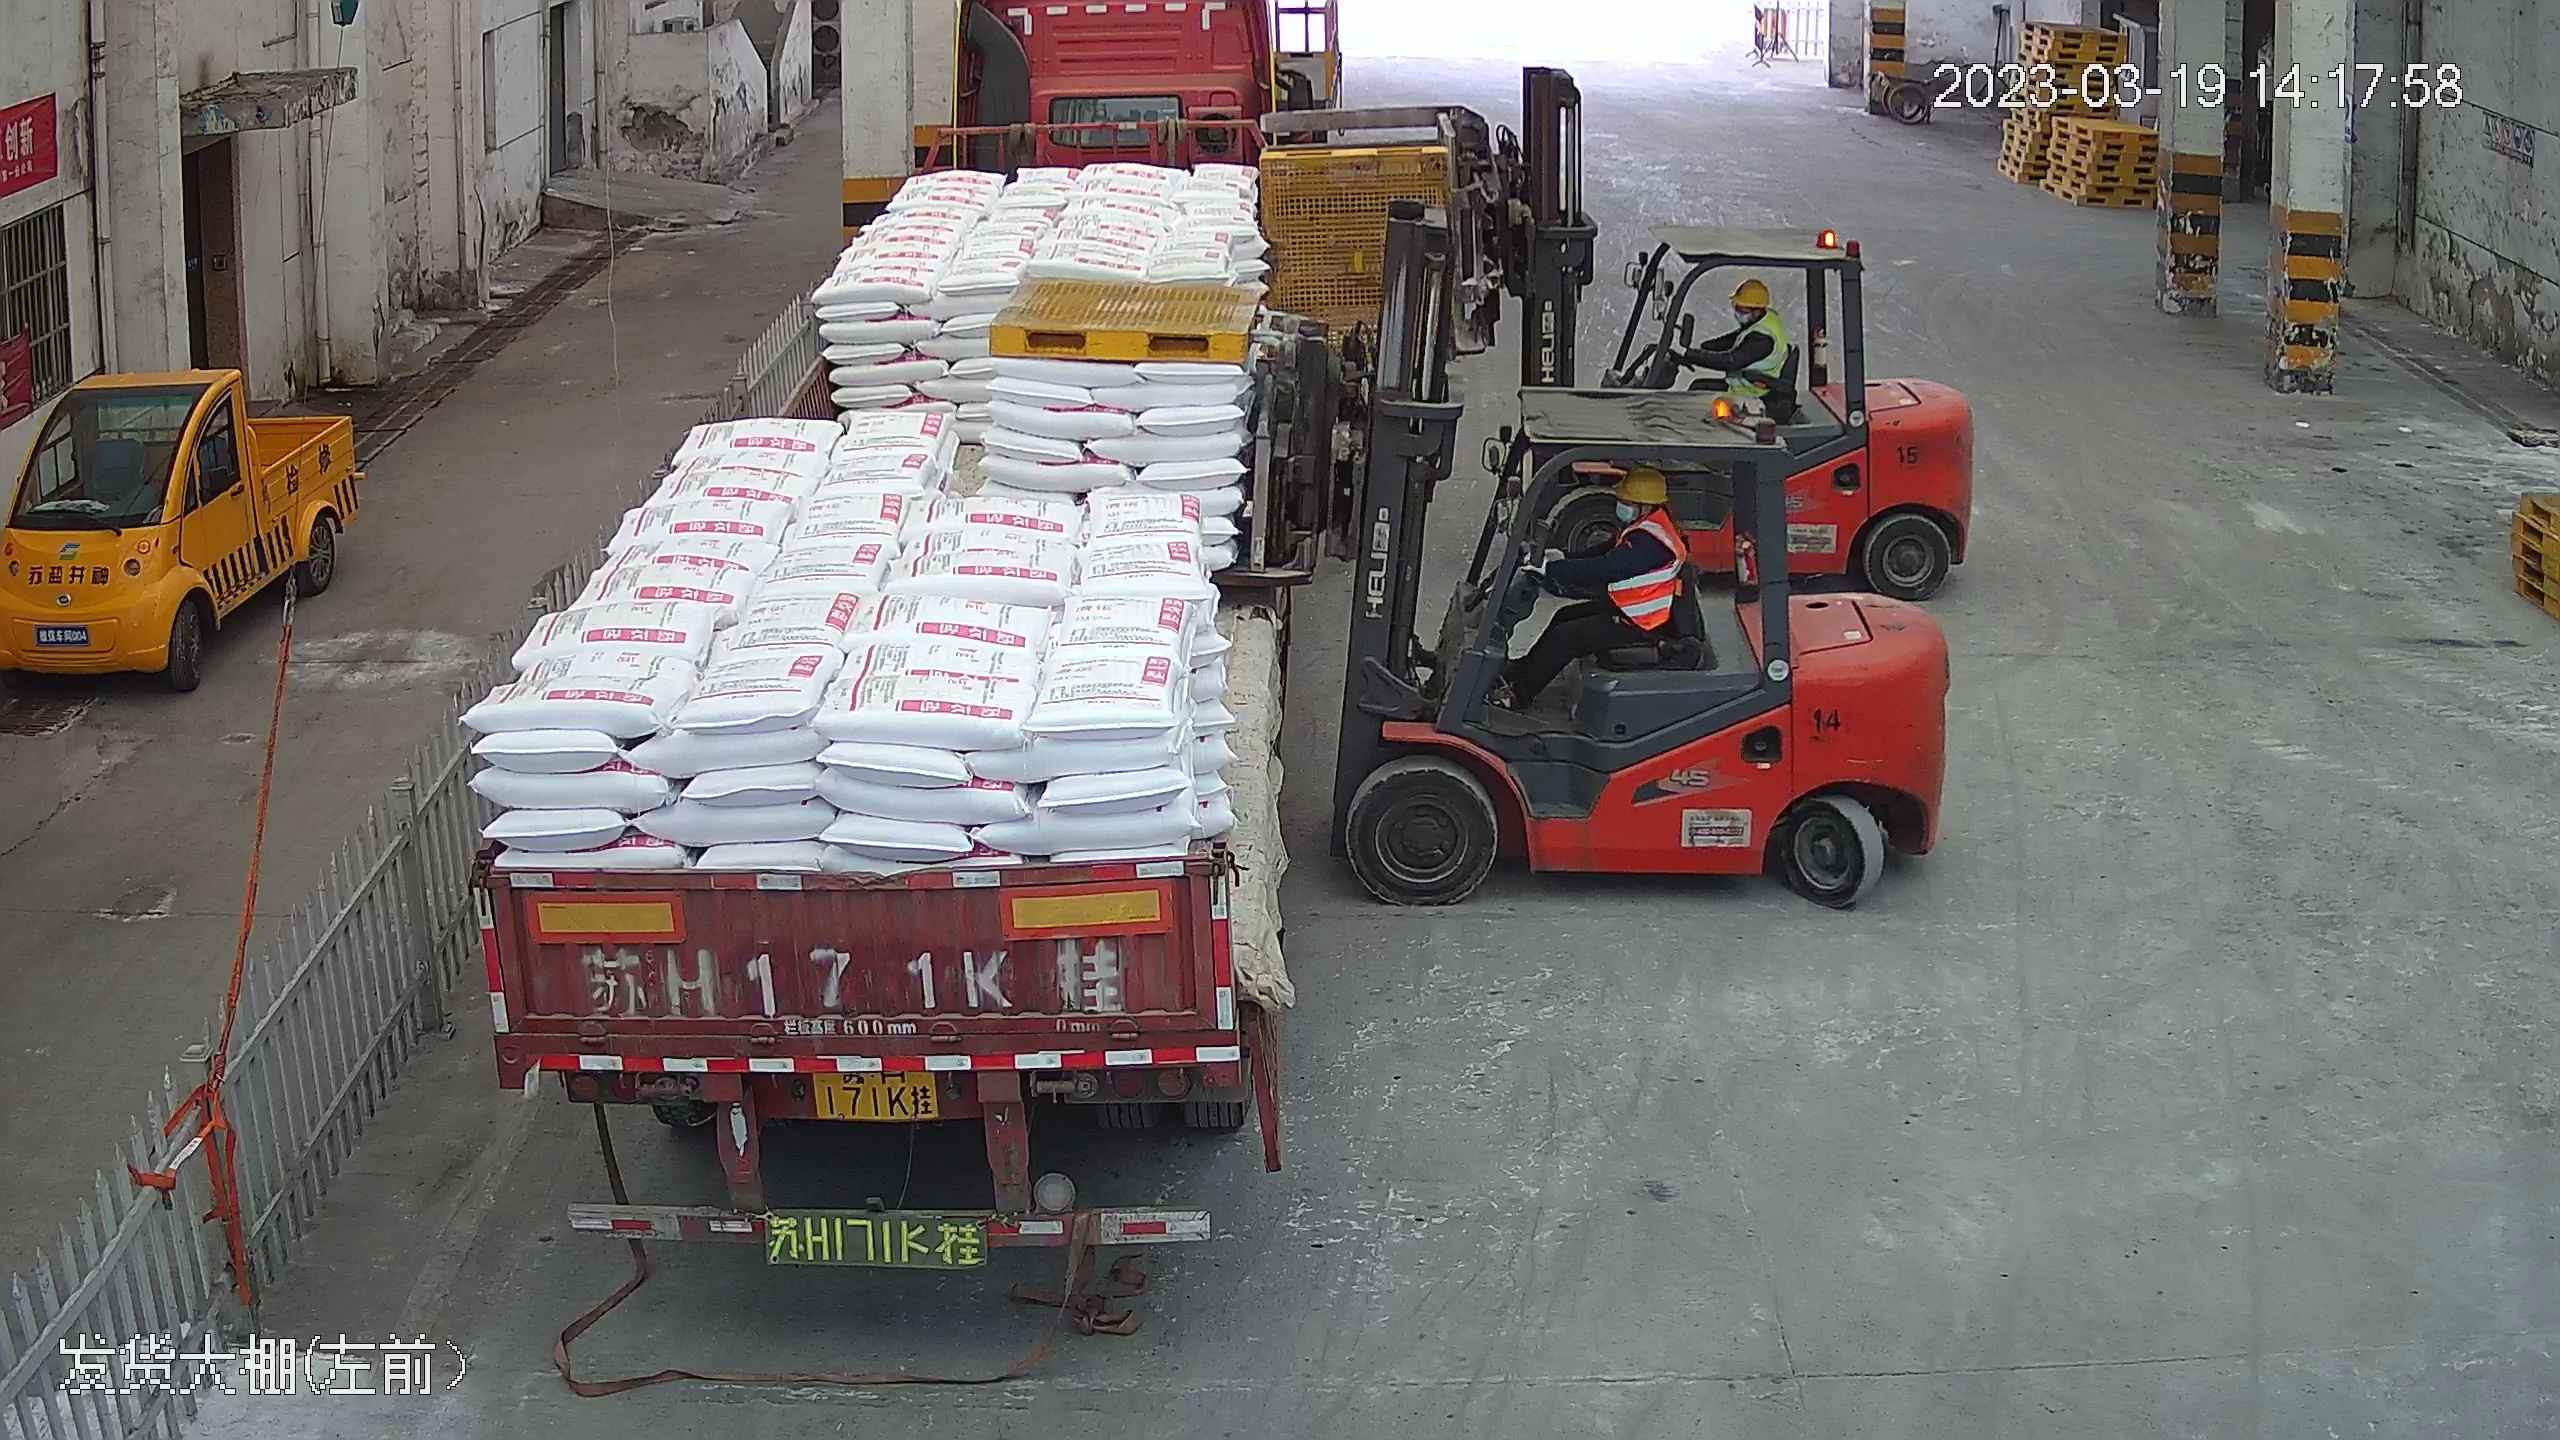head: (1597, 464, 1685, 572), (1713, 276, 1782, 356), (1727, 275, 1773, 310)
helmet: (1614, 464, 1668, 503), (1729, 275, 1770, 307)
people: (1491, 460, 1692, 715)
truck: (445, 1, 1287, 1301)
